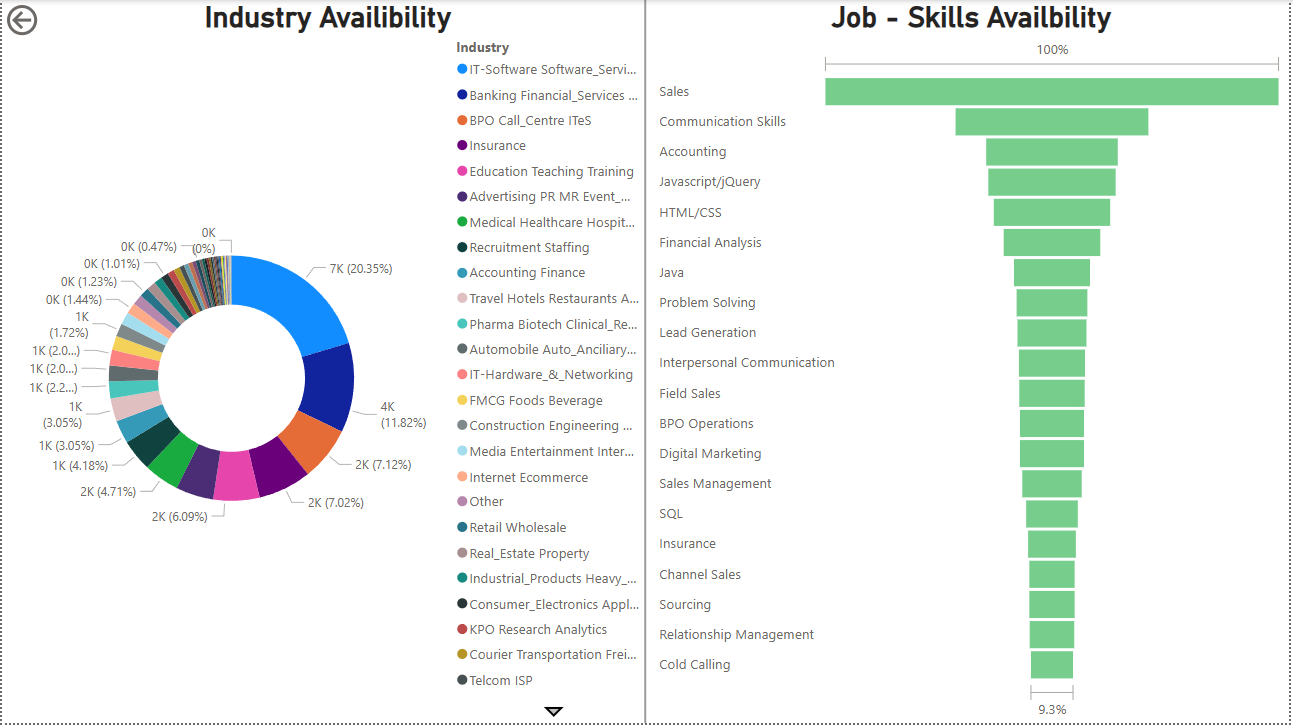

Layout of this report page (visuals, bound fields, positions):
{"tool":"powerbi","page":{"name":"Skills Analysis","canvas":[1280,720],"ordinal":2},"visuals":[{"type":"funnel","title":"Job - Skills Availbility","fields":{"Category":["Job_Market_EntryLevel_India.Cleaned Skill"],"Y":["Job_Market_EntryLevel_India.Job Count"]},"box":[649.1,0,631.2,720.4],"z":0},{"type":"donutChart","title":"Industry Availibility","fields":{"Category":["Job_Market_EntryLevel_India.Industry"],"Y":["Job_Market_EntryLevel_India.Job Count"]},"box":[0,0,649.1,720.4],"z":1000},{"type":"actionButton","box":[0,0,100,40],"z":2000},{"type":"shape","box":[490,0,300,720],"z":3000}]}

Visuals, with their boxes in screenshot pixels (x1, y1, x2, y2), scaled from the page's 1280x720 canvas onto the 1293x727 screenshot:
"Job - Skills Availbility" funnel: (x1=656, y1=0, x2=1292, y2=726)
"Industry Availibility" donutChart: (x1=0, y1=0, x2=656, y2=726)
actionButton: (x1=0, y1=0, x2=101, y2=40)
shape: (x1=495, y1=0, x2=798, y2=726)
